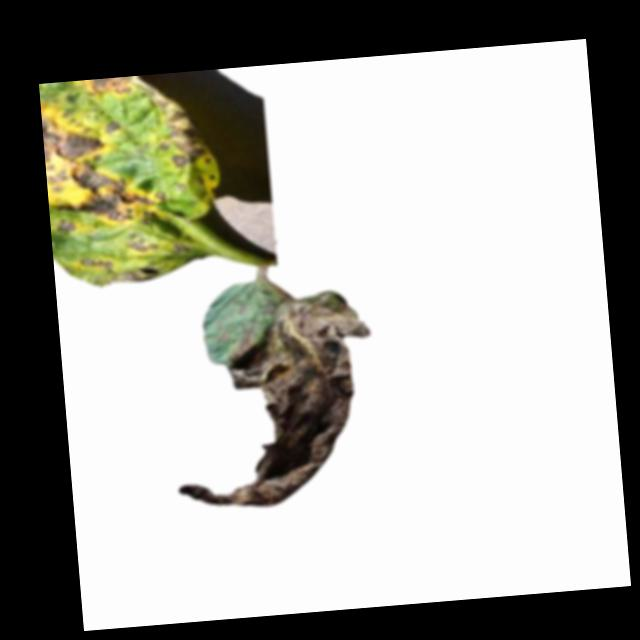Early_blight: (162, 288, 378, 513), (43, 105, 167, 237), (148, 84, 209, 169), (81, 251, 147, 288), (77, 76, 136, 100), (128, 236, 157, 254)
